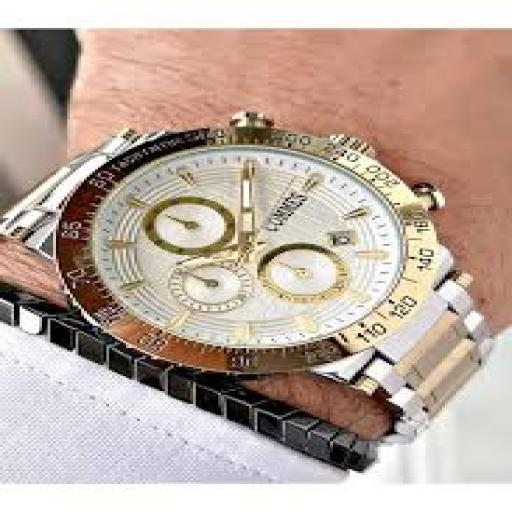KolSaati: (3, 90, 511, 442)
